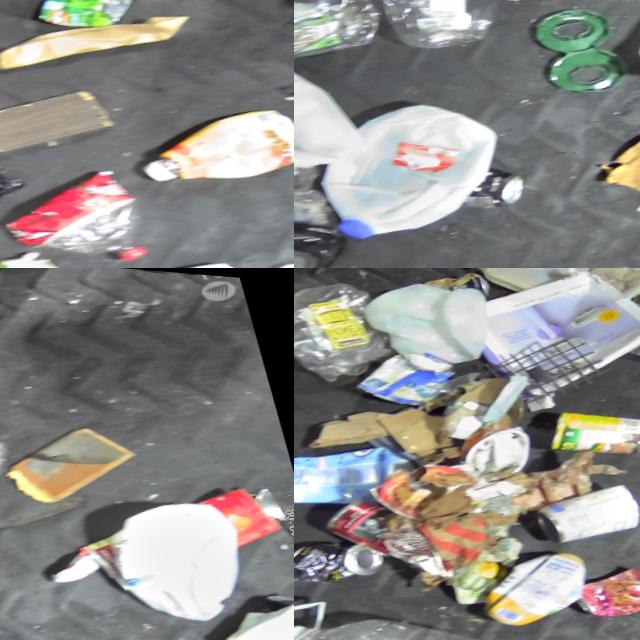can: (345, 335, 460, 415), (526, 467, 640, 544), (535, 382, 640, 465), (312, 486, 402, 564), (294, 522, 384, 593), (562, 549, 640, 618), (444, 156, 522, 212), (27, 0, 141, 35)
milk_jug: (295, 78, 515, 253), (94, 477, 254, 633), (353, 268, 502, 378), (294, 35, 363, 187), (460, 268, 640, 326)
non_white_jug: (461, 533, 594, 631), (294, 425, 413, 521)
plastic_bottle: (294, 545, 557, 640), (0, 149, 149, 268), (294, 0, 386, 81), (362, 0, 494, 56)
